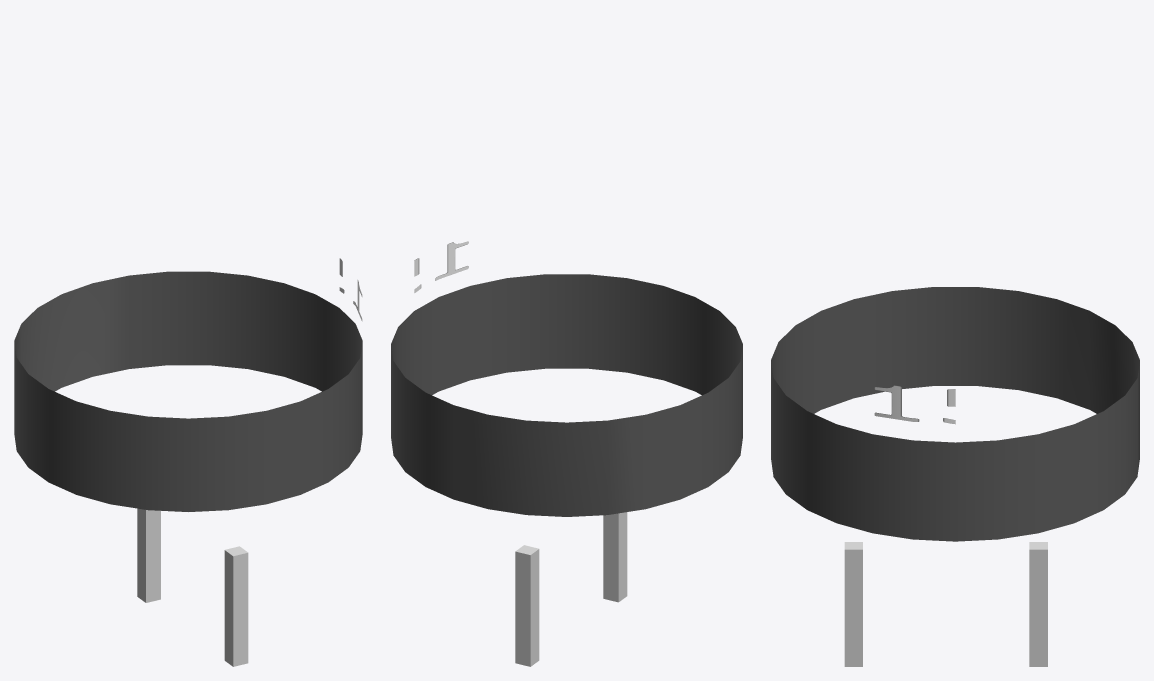
Rendered from Capacitor.FBX.
The picture shows the model from 3 angles, left to right: view 1: azimuth 30°, elevation 25°; view 2: azimuth 150°, elevation 25°; view 3: azimuth 270°, elevation 25°; orthographic projection. The views are drawn at different scales.
Parts seen in each view (by area): view 1: ChamferCyl001, Box002, Box001; view 2: ChamferCyl001, Box001, Box002; view 3: ChamferCyl001, Box001, Box002.
Boxes of the visible parts, <box> form: ChamferCyl001: <box>14,258,362,511</box>; Box002: <box>224,546,248,666</box>; Box001: <box>137,508,160,602</box>; ChamferCyl001: <box>391,241,742,516</box>; Box001: <box>515,545,539,666</box>; Box002: <box>603,512,627,602</box>; ChamferCyl001: <box>771,287,1139,541</box>; Box001: <box>1029,542,1047,666</box>; Box002: <box>844,542,862,666</box>.
Size of the model in its own units: 19.93 by 34.73 by 19.97.
1 material, 1 textured.
